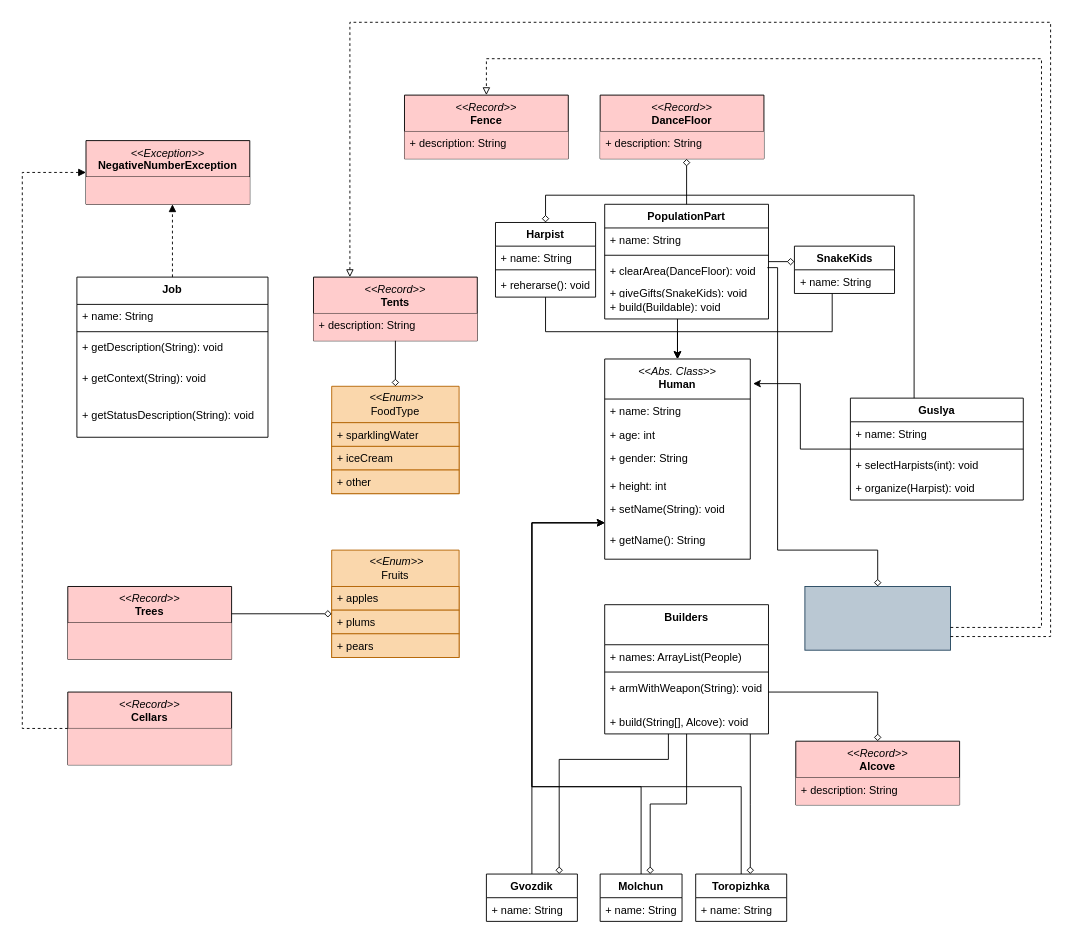
This 1074x940 diagram has some shape labels left out. Each missing label, with the centre of its shape:
"+ description: String + fruitsOnTrees: Fruits" goes at point 149,640.
"+ description: String + getStatus(int): void" goes at point 149,746.
"+ getMessage(): String" goes at point 167,190.
"<<Interface>> Buildable + build(): String" goes at point 877,618.
